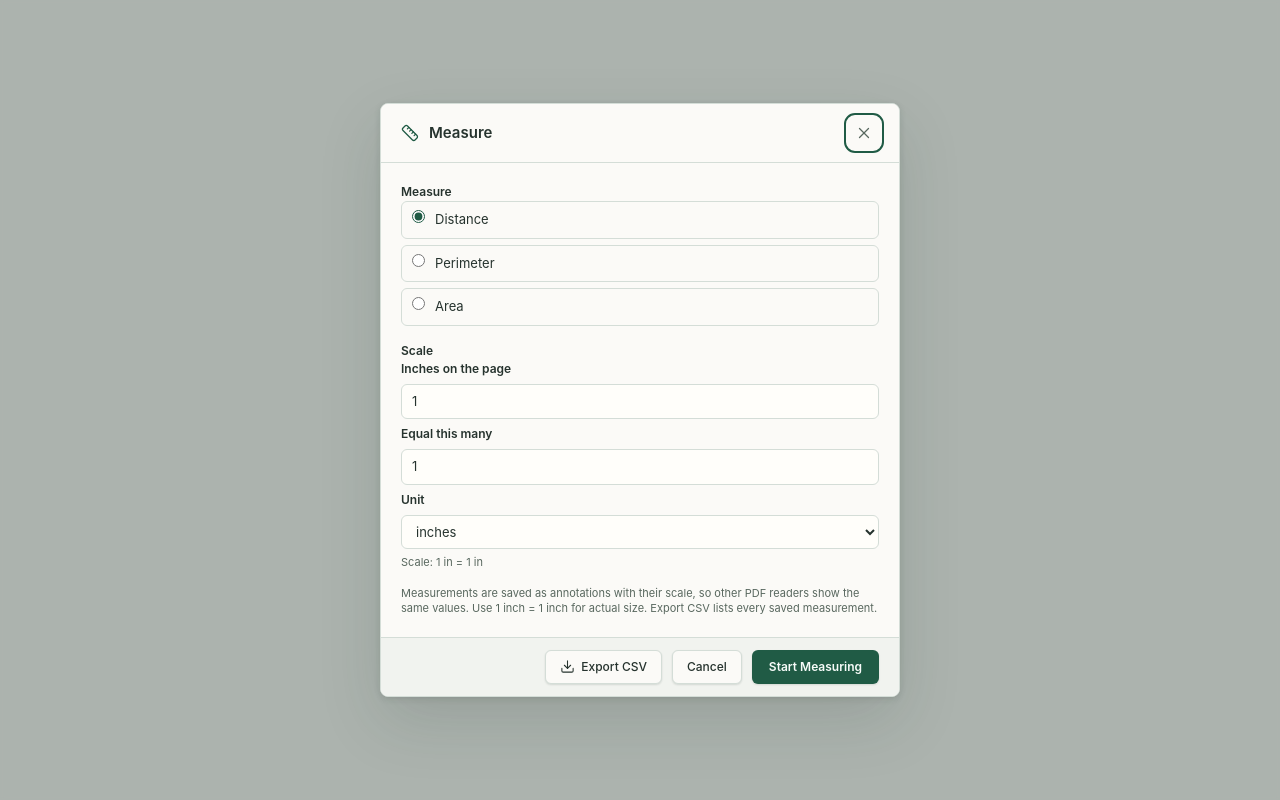
it: exports saved measurements or explains that there are none
The image size is (1280, 800).
Click the button "Export CSV": {"x": 604, "y": 667} [545, 650, 662, 684]
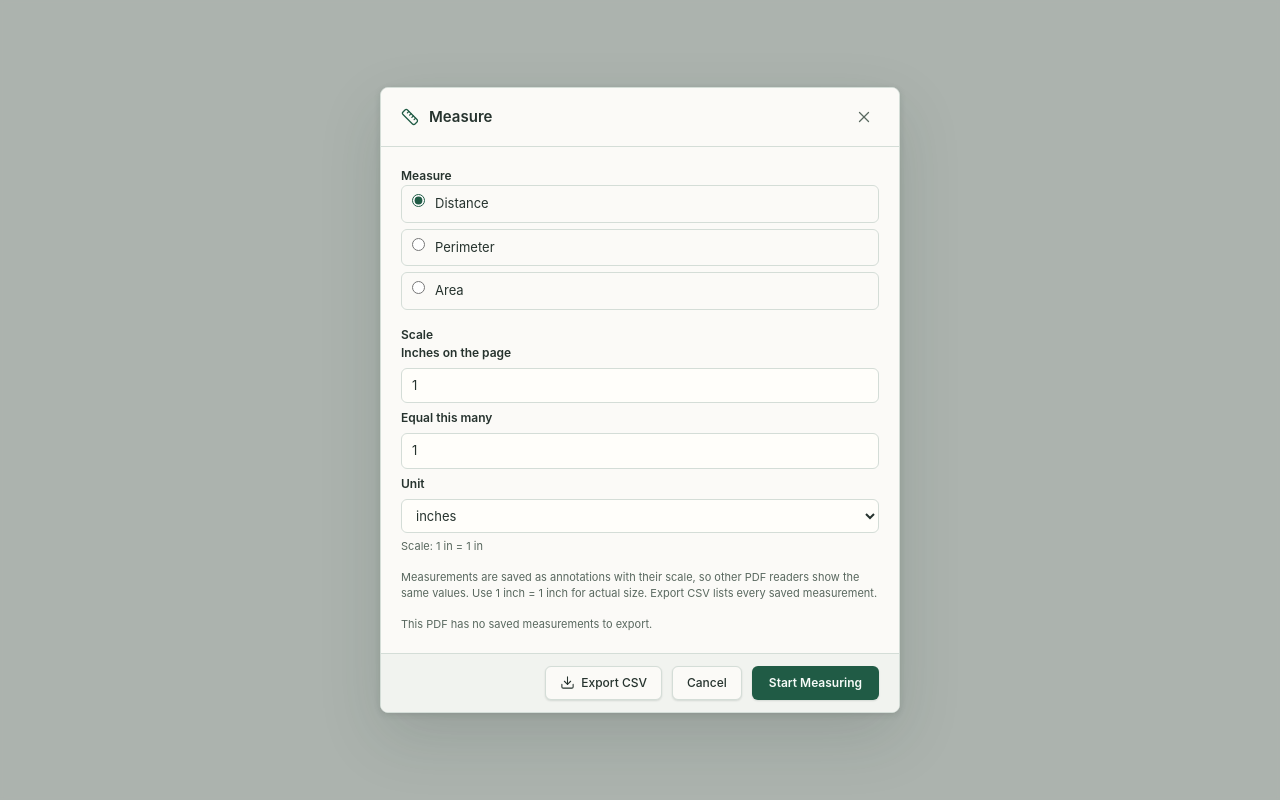
Expected: the text "This PDF has no saved measurements to export." is shown, [401, 617, 652, 631]
